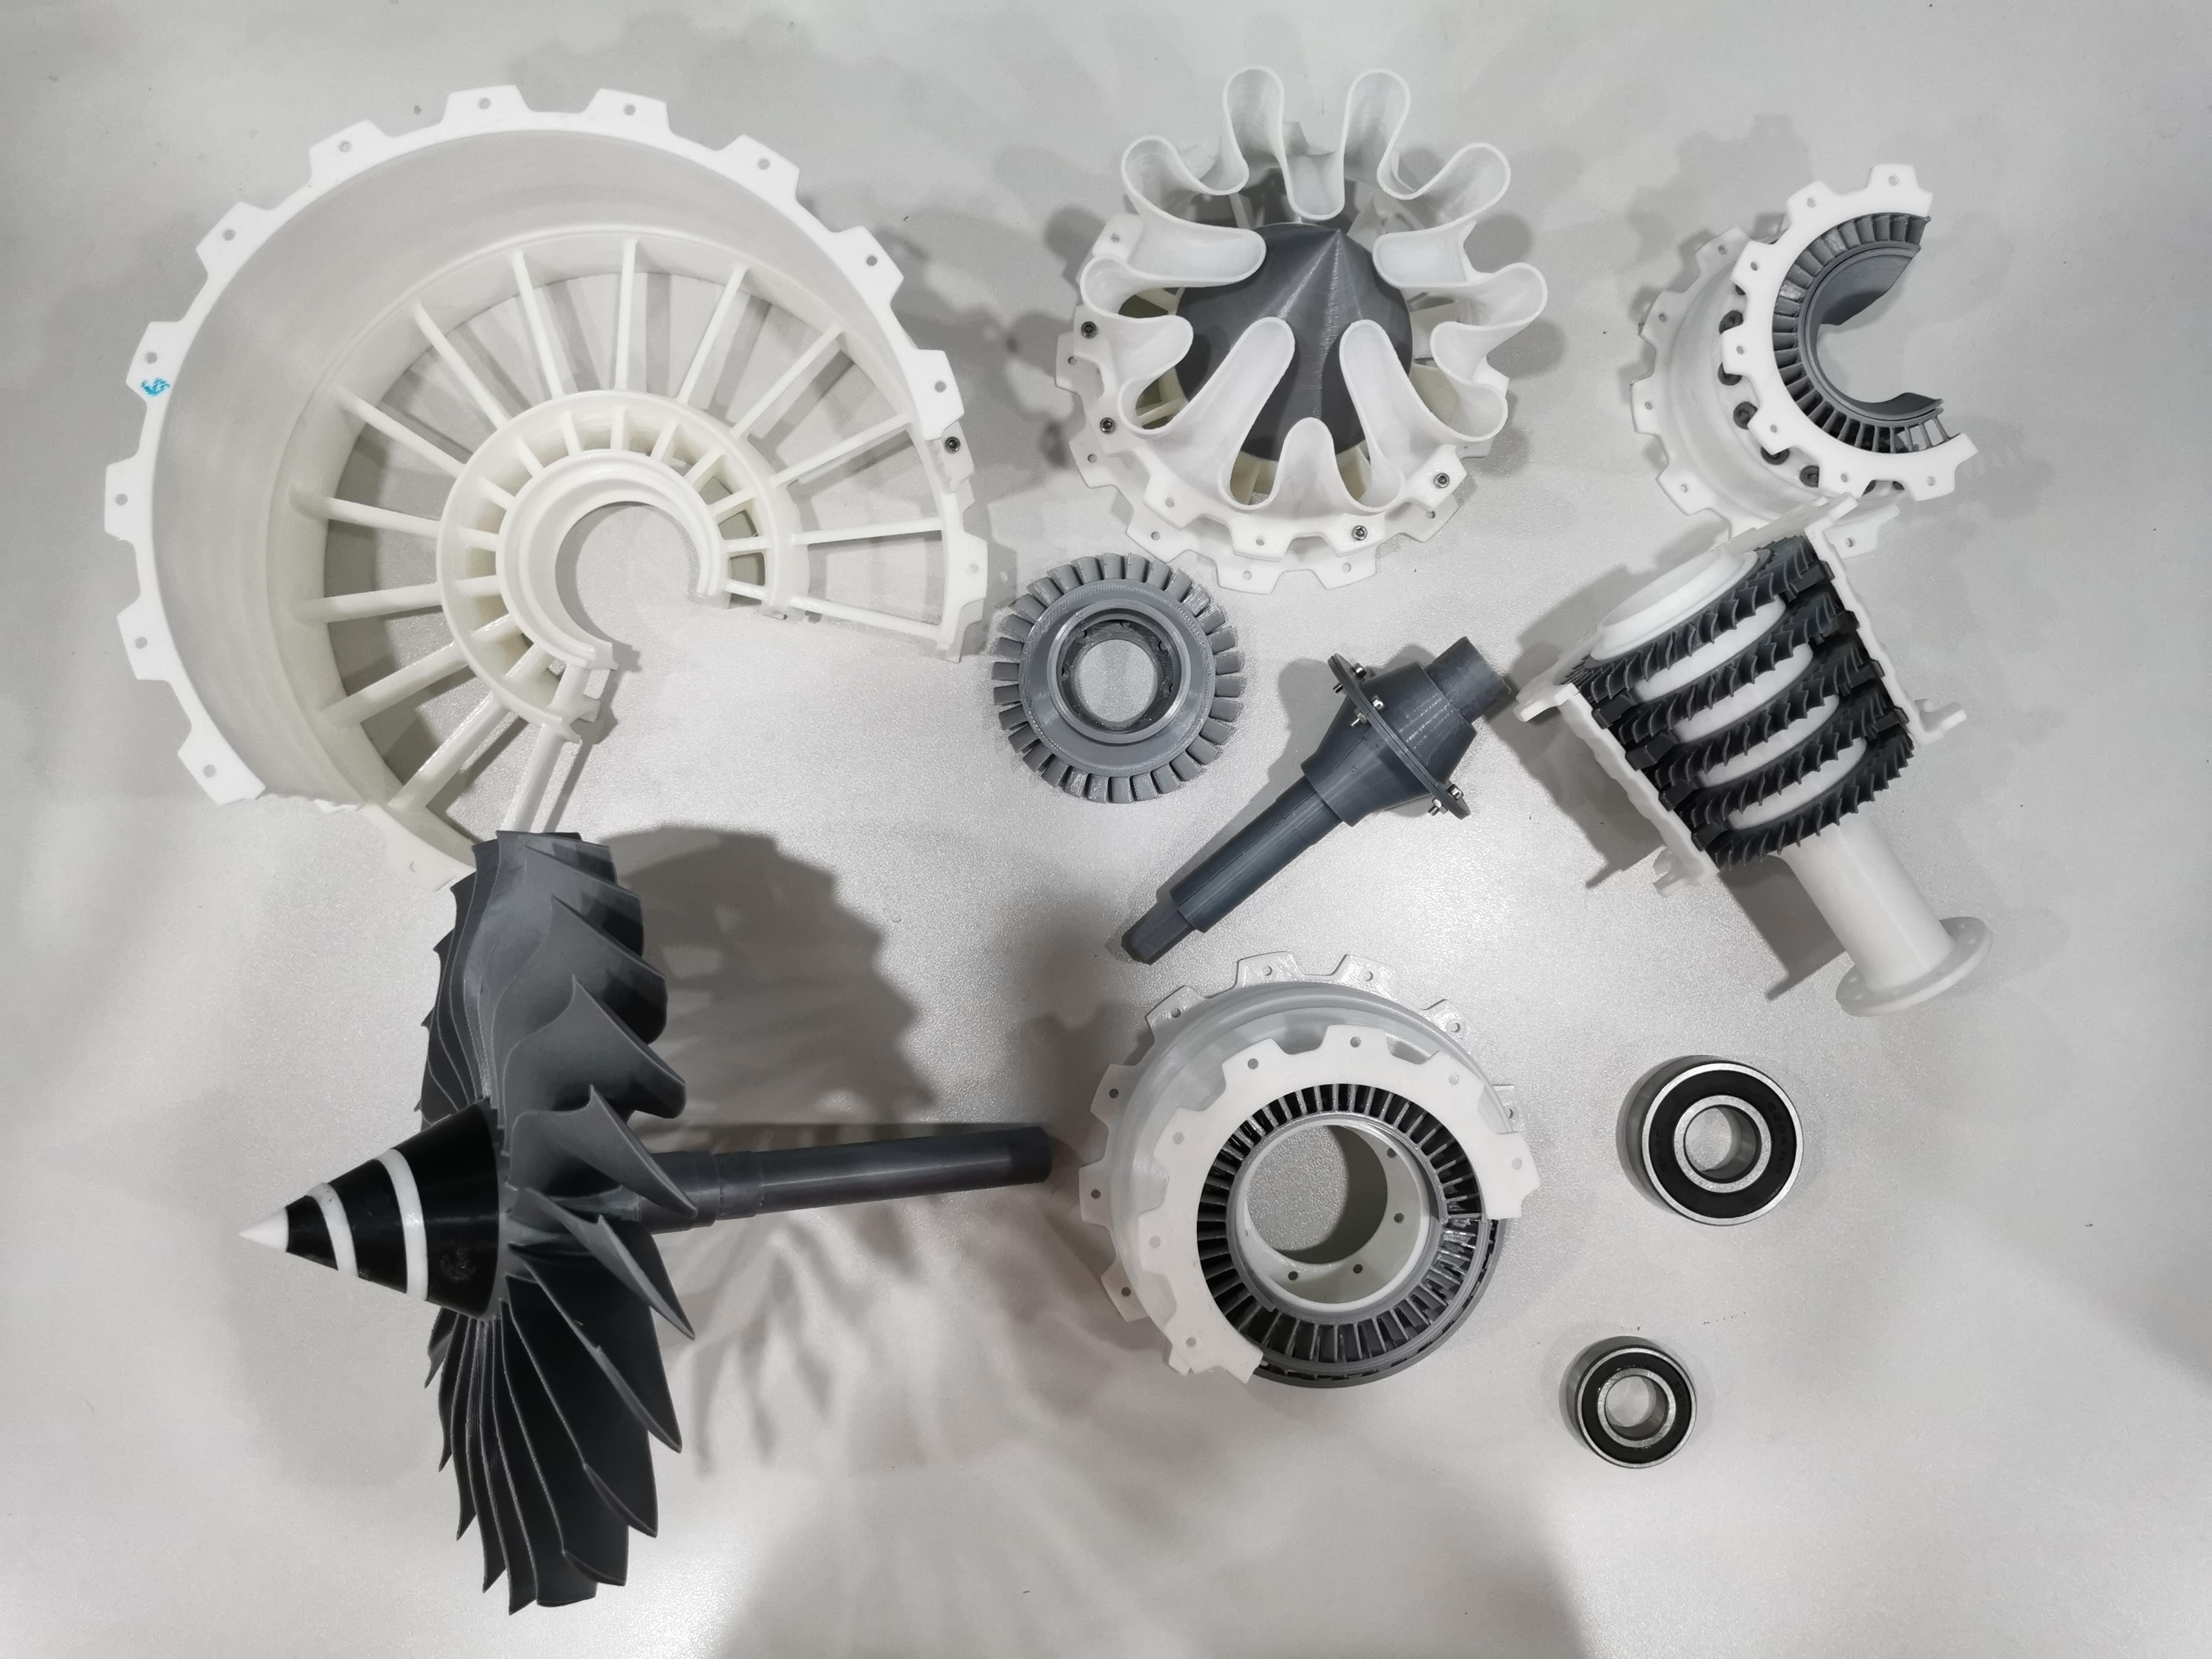Bearing-6003: (1538, 1333, 1712, 1492)
Bearing-6204: (1597, 1047, 1834, 1251)
Combustion Section: (1622, 146, 1994, 575)
Fan Casing and Support: (87, 73, 1003, 901)
Fan and Low Pressure Shaft: (221, 826, 1055, 1621)
HPT Section: (979, 547, 1254, 812)
High Pressure Spool: (1503, 493, 2003, 1028)
LPT Section: (1064, 943, 1550, 1399)
Low Pressure Spool: (1094, 633, 1529, 978)
Nozzle Section: (1033, 54, 1555, 601)
